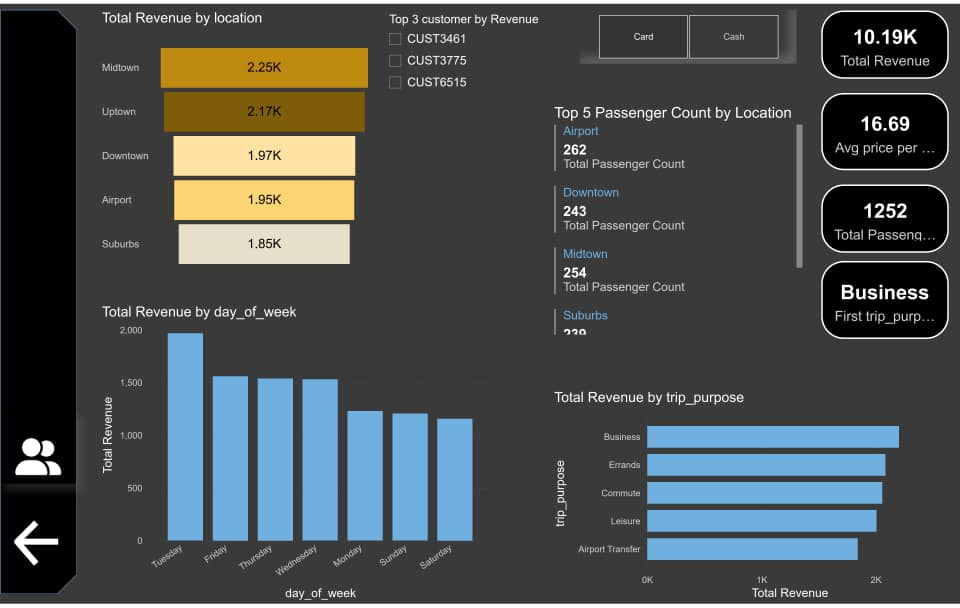

The dashboard page shown, as its layout file describes it:
{"tool":"powerbi","page":{"name":"Key Consideration","canvas":[1280,800],"ordinal":1},"visuals":[{"type":"funnel","fields":{"Category":["taxi_organization_data1.location"],"Y":["taxi_organization_data1.Total Revenue"]},"box":[131,8.4,369.6,367.9],"z":0},{"type":"slicer","fields":{"Values":["taxi_organization_data1.payment_type"]},"box":[772.7,8.4,288.9,72.2],"z":1000},{"type":"multiRowCard","title":"Top 5 Passenger Count by Location","fields":{"Values":["taxi_organization_data1.location","taxi_organization_data1.Total Passenger Count"]},"box":[734.1,134.4,341,312.4],"z":2000},{"type":"barChart","fields":{"Category":["taxi_organization_data1.trip_purpose"],"Y":["taxi_organization_data1.Total Revenue"]},"box":[734.1,514,530.8,285.6],"z":3000},{"type":"clusteredColumnChart","fields":{"Y":["taxi_organization_data1.Total Revenue"],"Category":["taxi_organization_data1.day_of_week"]},"box":[131,399.8,529.1,399.8],"z":4000},{"type":"card","fields":{"Values":["taxi_organization_data1.Total Passenger Count"]},"box":[1094.7,241,170.4,91.1],"z":5000},{"type":"card","fields":{"Values":["taxi_organization_data1.Total Revenue"]},"box":[1094.7,8.8,170.4,91.1],"z":6000},{"type":"card","fields":{"Values":["taxi_organization_data1.Avg price per trip"]},"box":[1094.7,119,170.4,102.9],"z":7000},{"type":"shape","box":[0,8.4,102.5,779.4],"z":8000},{"type":"card","fields":{"Values":["Min(taxi_organization_data1.trip_purpose)"]},"box":[1095.2,342.7,169.7,104.1],"z":9000},{"type":"slicer","fields":{"Values":["taxi_organization_data1.customer_id"]},"box":[505.6,6.7,253.6,127.7],"z":10000},{"type":"image","box":[0,545.9,102.5,94.1],"z":10001},{"type":"actionButton","box":[11.8,683.7,77.3,70.6],"z":10002}]}

Visuals, with their boxes on the page's 1280x800 design canvas (x1, y1, x2, y2). These are canvas units, not pixel positions in the 960x608 screenshot, which may show the page scaled, cropped or inside an application window:
funnel - taxi_organization_data1.location x taxi_organization_data1.Total Revenue: rect(131, 8, 501, 376)
slicer - taxi_organization_data1.payment_type: rect(773, 8, 1062, 81)
"Top 5 Passenger Count by Location" multiRowCard: rect(734, 134, 1075, 447)
barChart - taxi_organization_data1.trip_purpose x taxi_organization_data1.Total Revenue: rect(734, 514, 1265, 800)
clusteredColumnChart - taxi_organization_data1.Total Revenue x taxi_organization_data1.day_of_week: rect(131, 400, 660, 800)
card - taxi_organization_data1.Total Passenger Count: rect(1095, 241, 1265, 332)
card - taxi_organization_data1.Total Revenue: rect(1095, 9, 1265, 100)
card - taxi_organization_data1.Avg price per trip: rect(1095, 119, 1265, 222)
shape: rect(0, 8, 102, 788)
card - Min(taxi_organization_data1.trip_purpose): rect(1095, 343, 1265, 447)
slicer - taxi_organization_data1.customer_id: rect(506, 7, 759, 134)
image: rect(0, 546, 102, 640)
actionButton: rect(12, 684, 89, 754)
